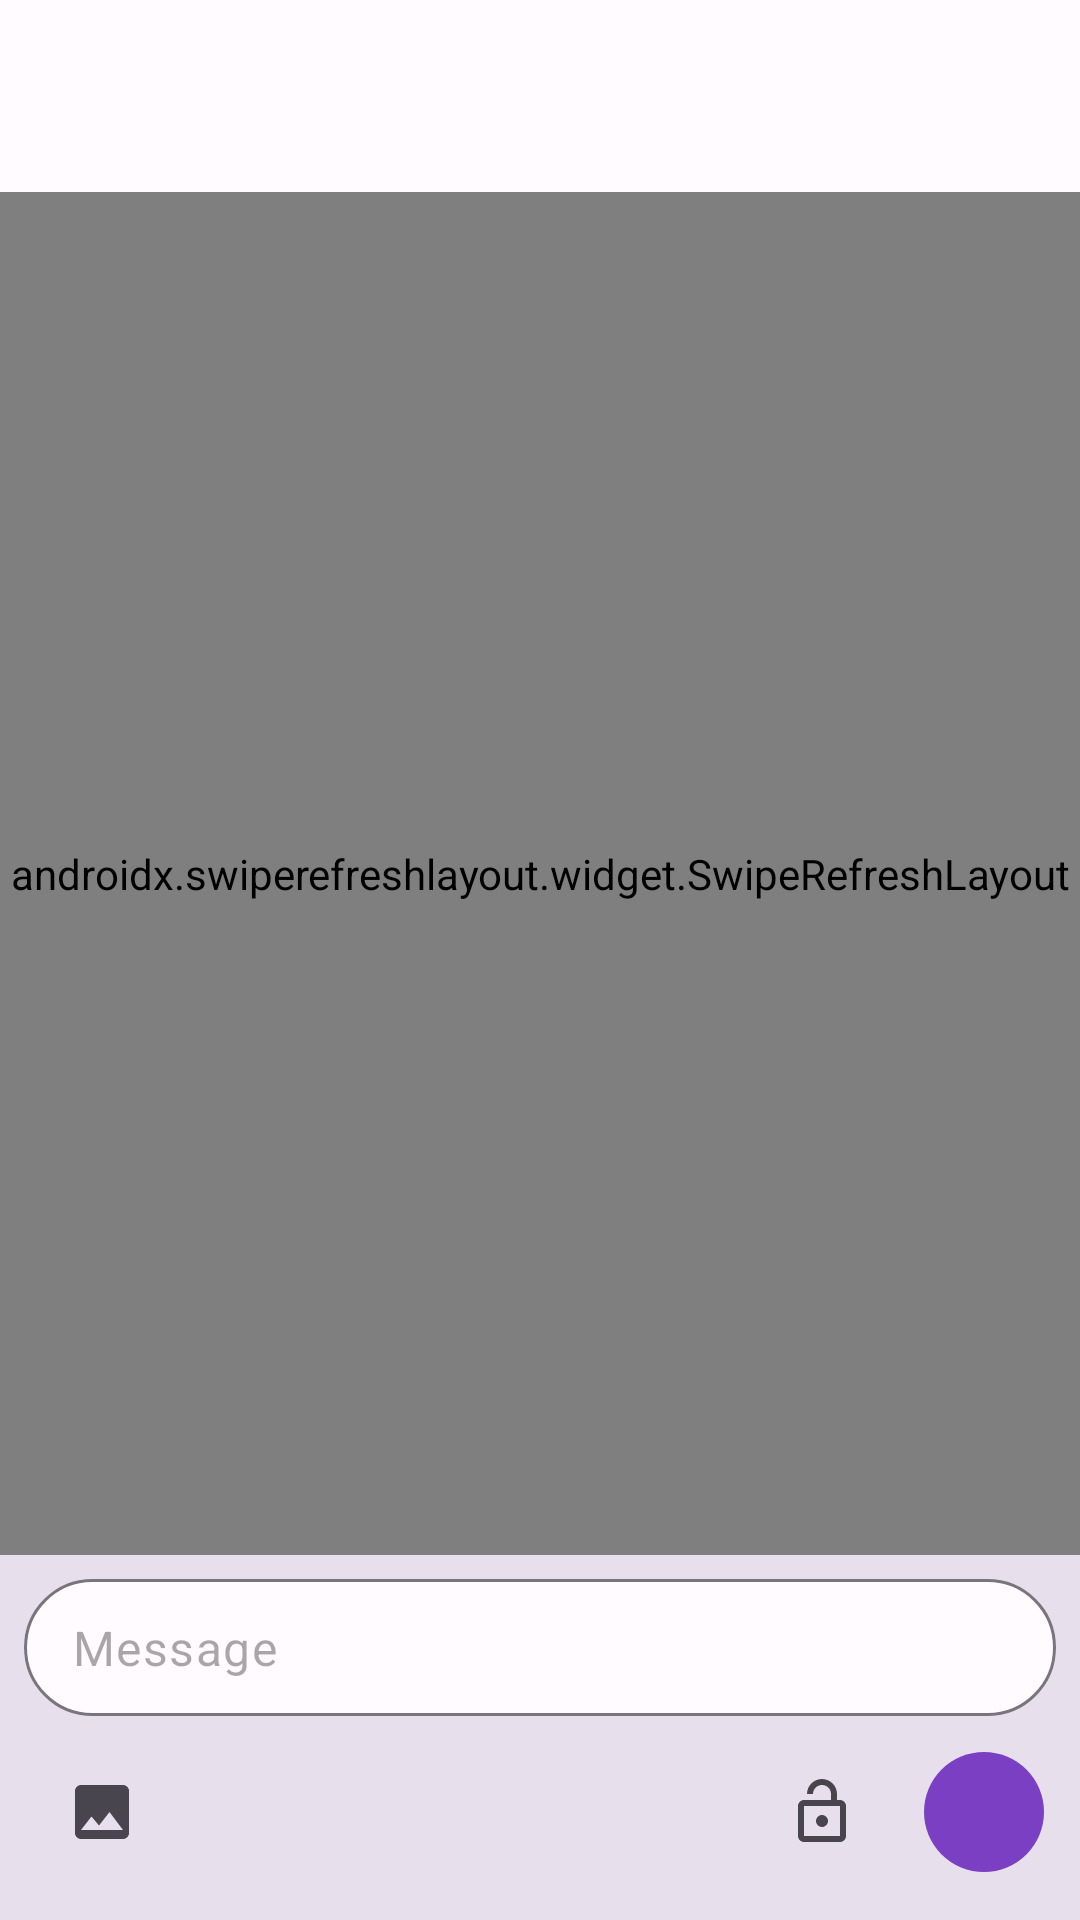

Icons on this 1080w x 1920h Android screen, each with the point to tap as (x,y):
Attach Photo: (102,1812)
